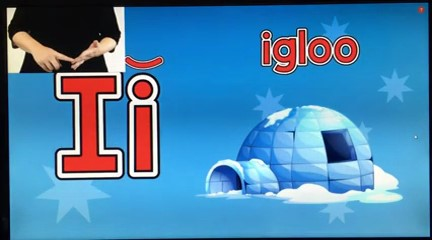I: (31, 37, 103, 74)
